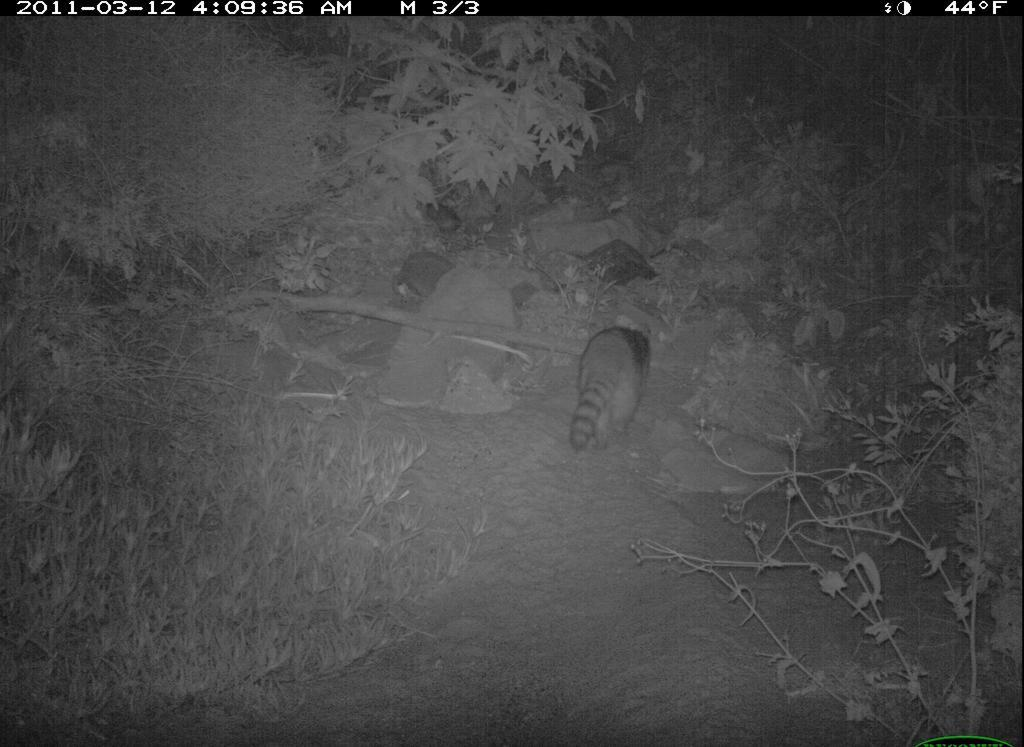raccoon: (566, 322, 660, 460)
